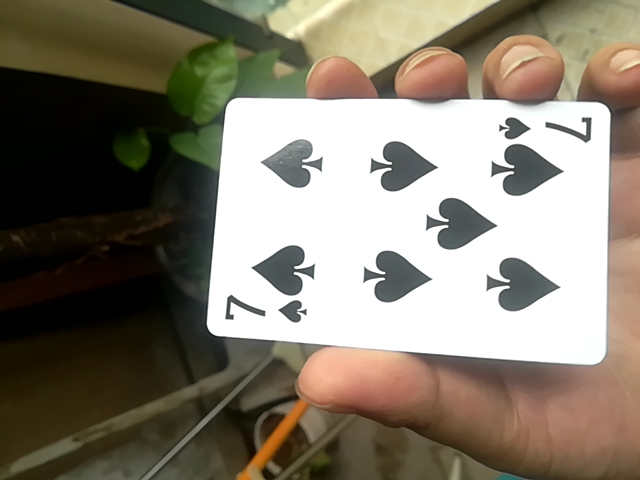ht 7: (198, 94, 622, 372)
